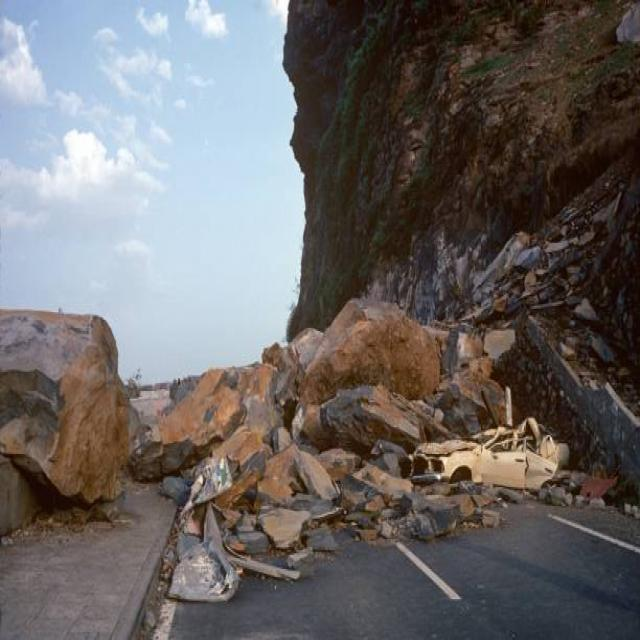landSliding: (99, 281, 640, 634)
